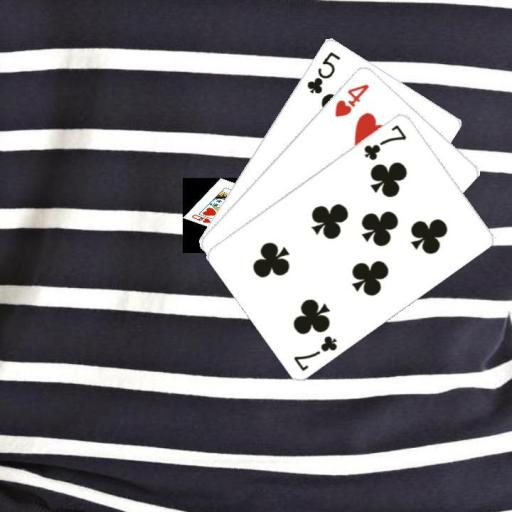4H: (332, 80, 371, 118)
5C: (303, 48, 342, 95)
7C: (290, 332, 339, 373), (361, 121, 408, 161)
